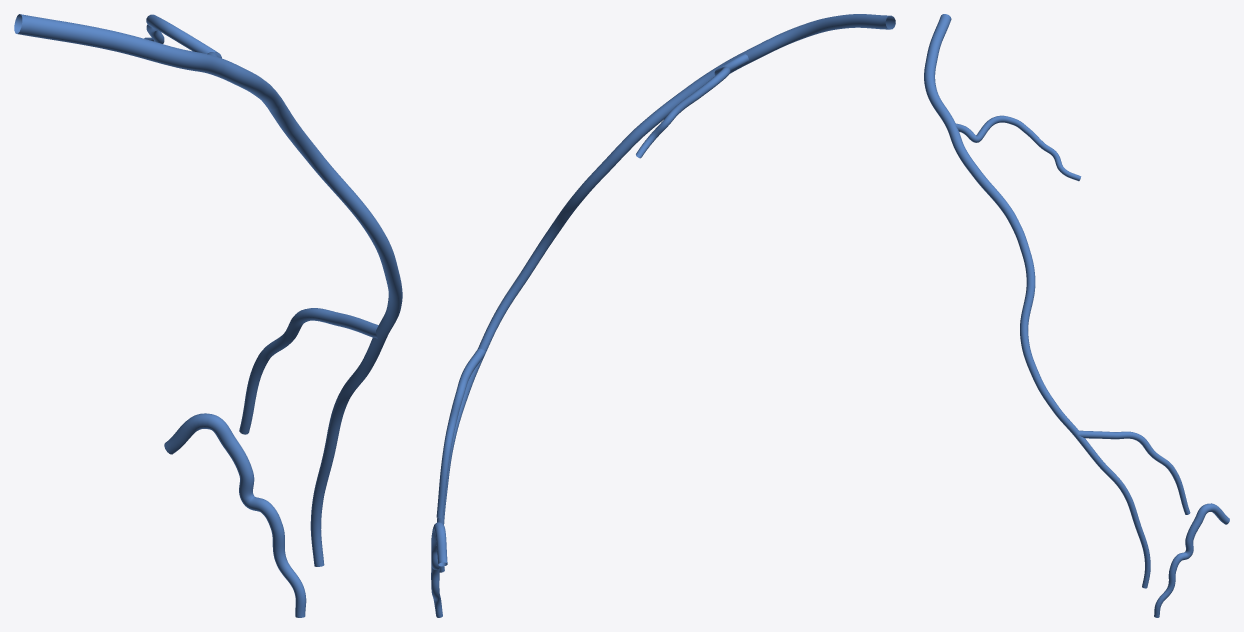
3 views of the same model, side by side, from view 1: azimuth 30°, elevation 25°; view 2: azimuth 150°, elevation 25°; view 3: azimuth 270°, elevation 25° (orthographic). The views are drawn at different scales.
Parts seen in each view (by area): view 1: 左心室后静脉; view 2: 左心室后静脉; view 3: 左心室后静脉.
Part boxes in pixels (x1,y1,x2,y2): 左心室后静脉: [14, 14, 402, 617]; 左心室后静脉: [431, 14, 895, 617]; 左心室后静脉: [924, 14, 1229, 617].
Size of the model in its own units: 0.055 by 0.0908 by 0.0529.
